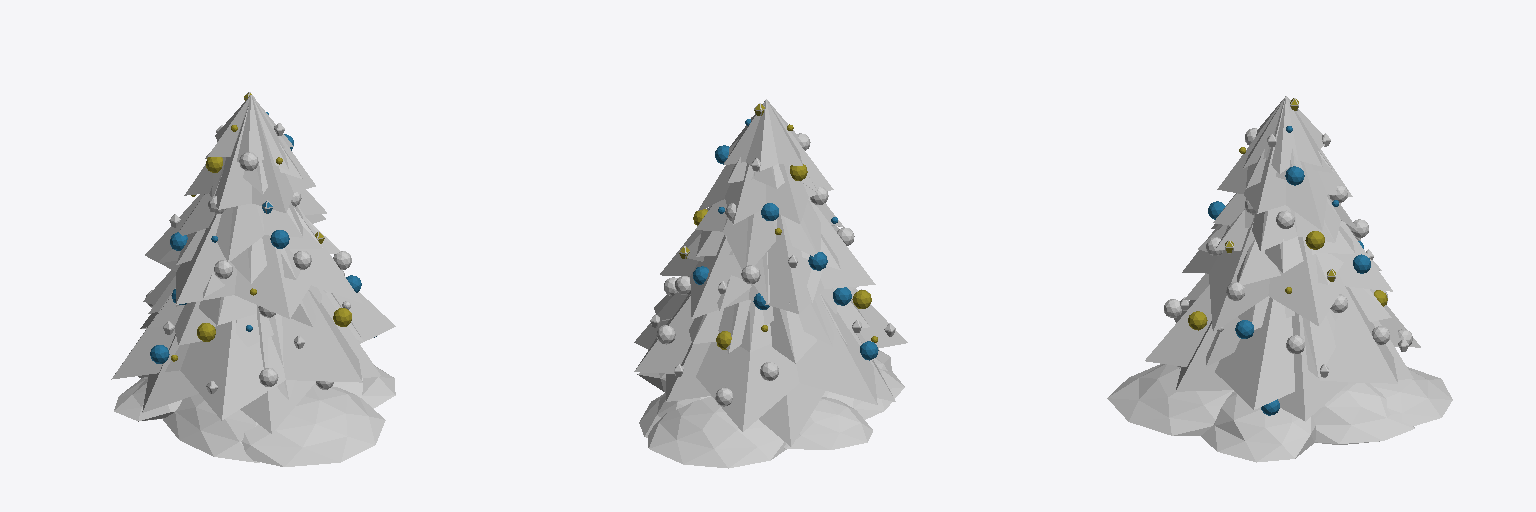
The picture shows the model from 3 angles: view 1: azimuth 30°, elevation 25°; view 2: azimuth 150°, elevation 25°; view 3: azimuth 270°, elevation 25°; orthographic projection.
Parts seen in each view (by area): view 1: Tree_E, Icosphere.184; view 2: Tree_E, Icosphere.184; view 3: Tree_E, Icosphere.184.
Part boxes in pixels (x1,y1,x2,y2): Tree_E: (111,95,395,433); Icosphere.184: (114,365,395,466); Tree_E: (634,99,907,446); Icosphere.184: (637,349,904,468); Tree_E: (1145,96,1420,421); Icosphere.184: (1107,364,1452,462).
Bounding box in the file's own units: 4.37 × 5.24 × 5.15.
7 materials, 2 textured.